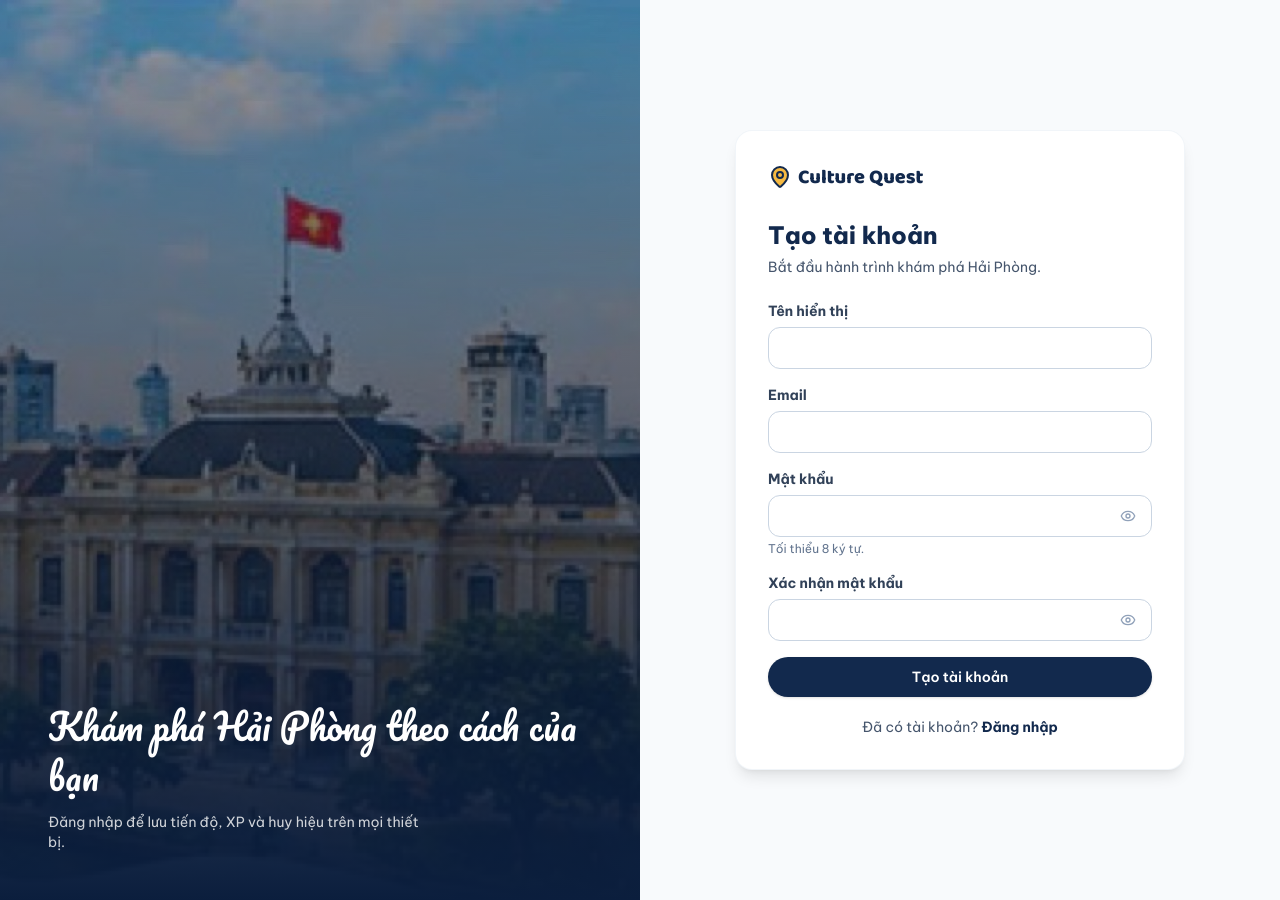
Test case: AuthPage › explains that the email is already registered
Type "Mai Anh" into the field labelled "Tên hiển thị" at (960, 348), box top-left (768, 327), bottom-right (1152, 369)
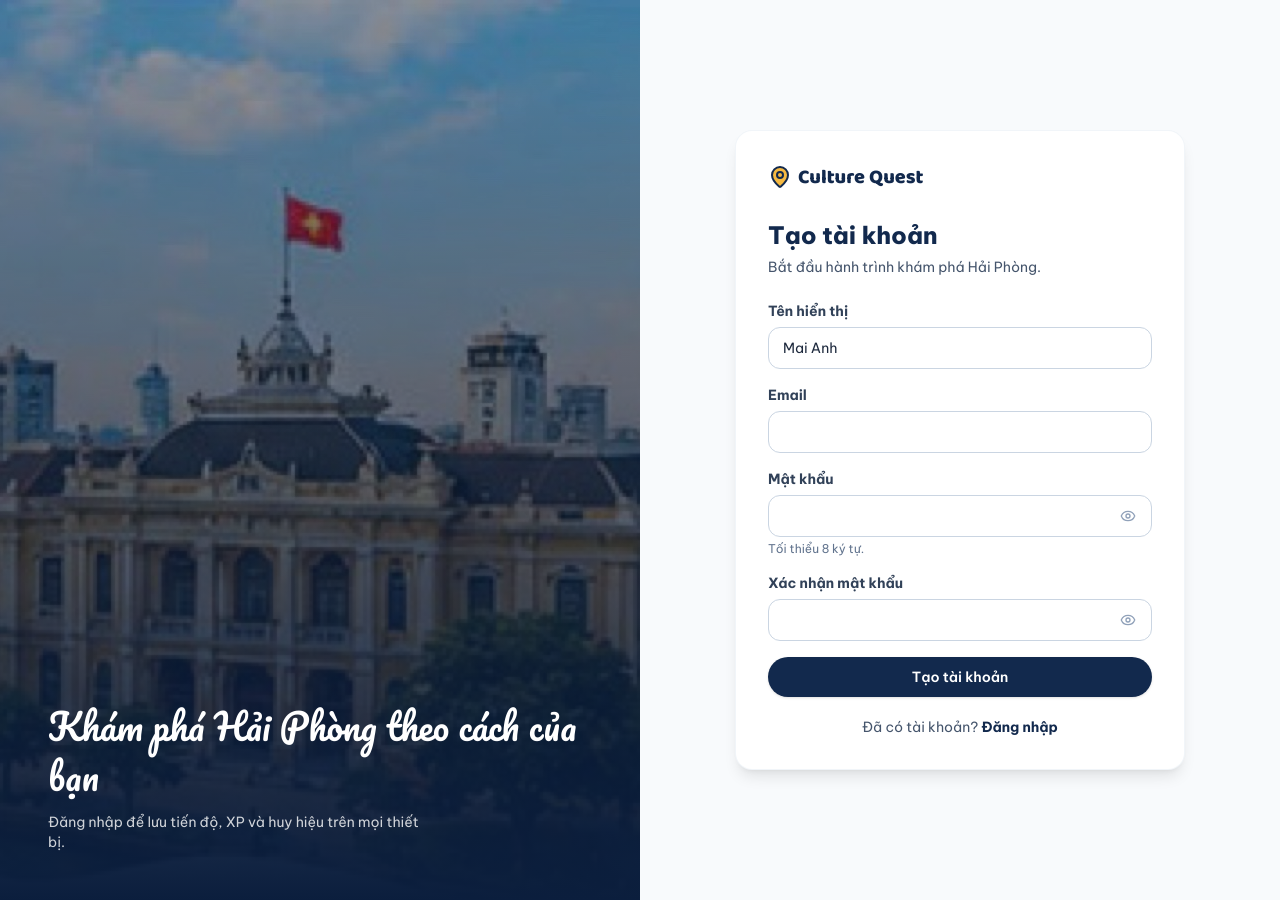
Type "mai@example.com" into the field labelled "Email" at (960, 432), box top-left (768, 411), bottom-right (1152, 453)
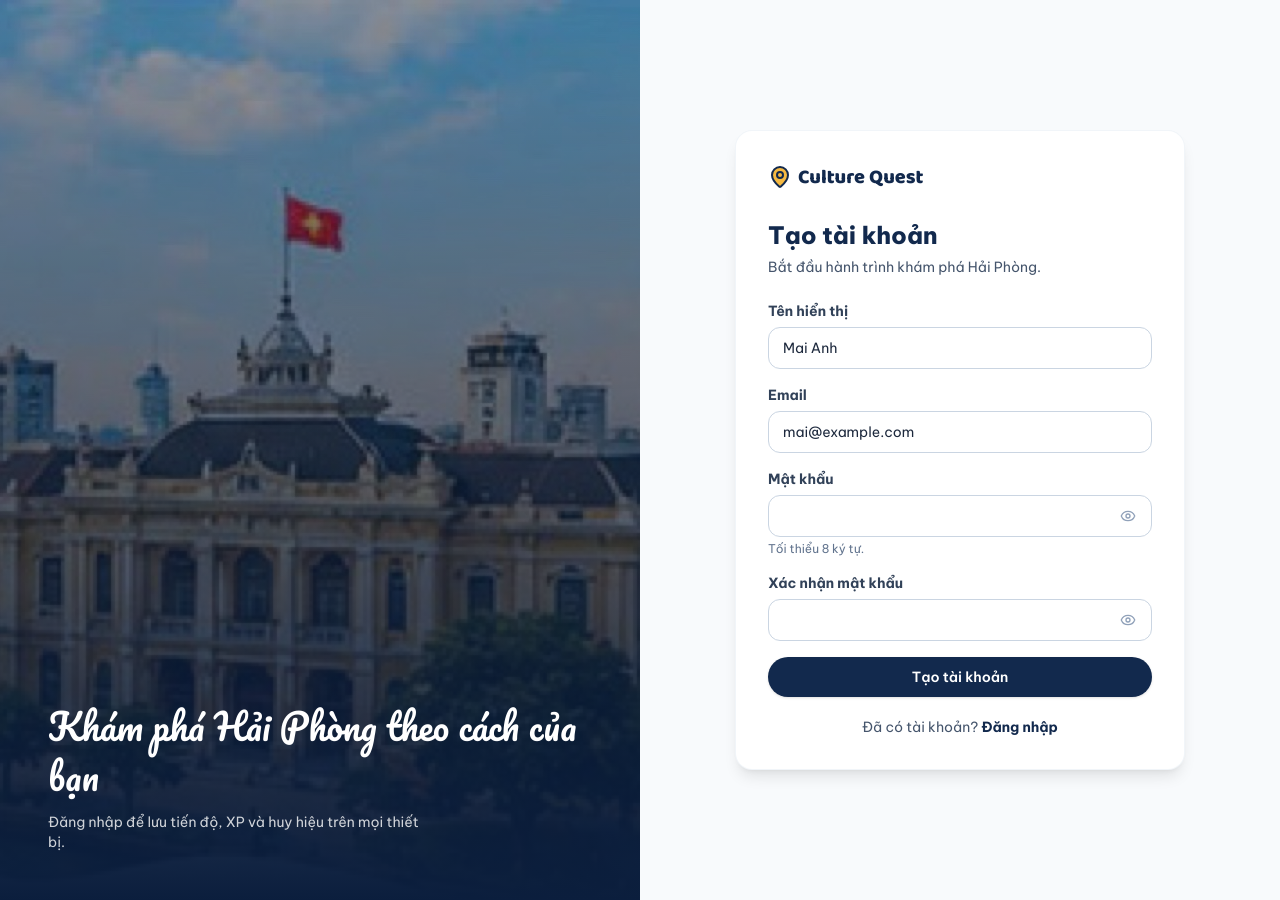
Type "password123" into the password field labelled "Mật khẩu" at (960, 516), box top-left (768, 495), bottom-right (1152, 537)
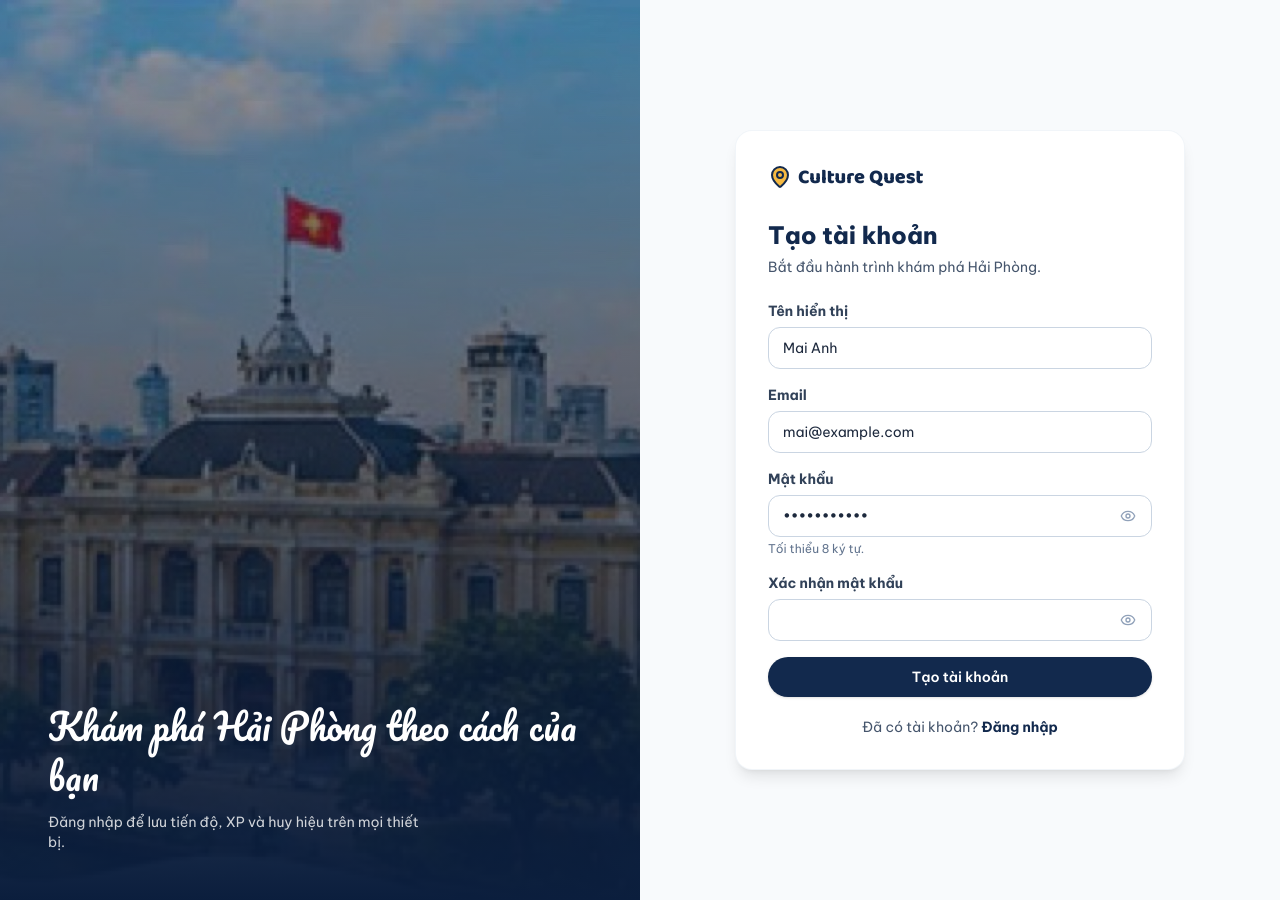
Type "password123" into the password field labelled "Xác nhận mật khẩu" at (960, 620), box top-left (768, 599), bottom-right (1152, 641)
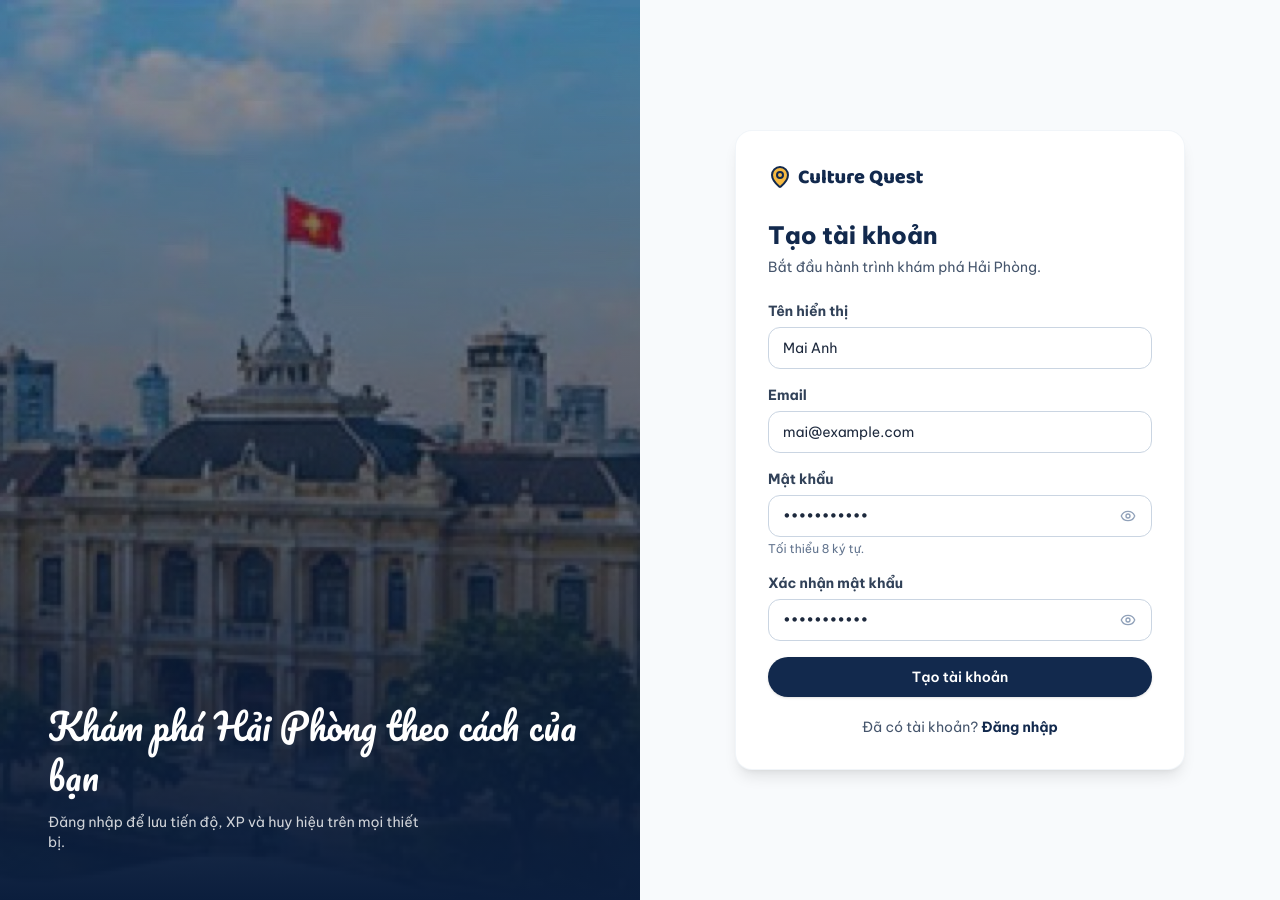
Submit the form "Tạo tài khoản", box top-left (768, 301), bottom-right (1152, 697)
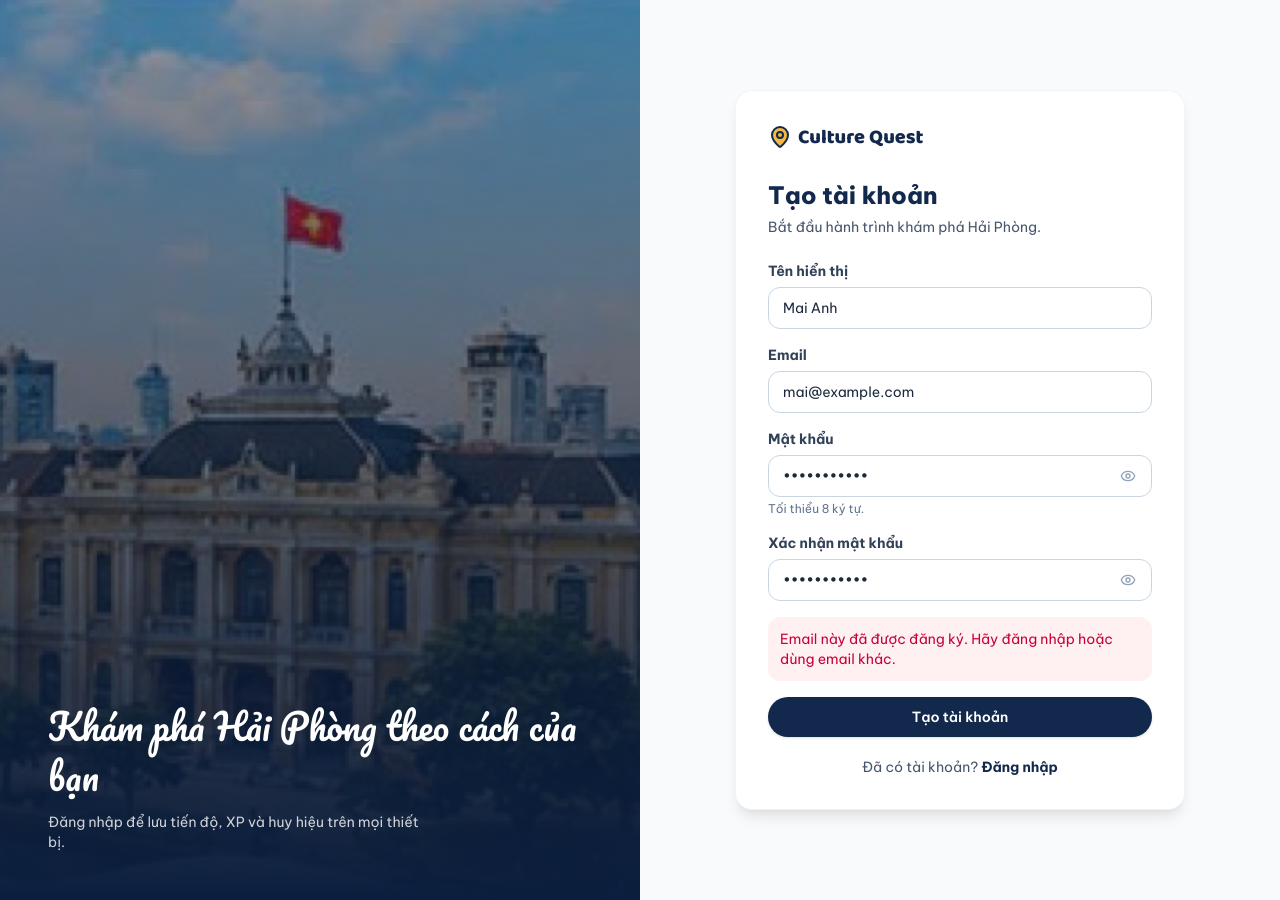
Expected: the message shows "Email này đã được đăng ký", top-left (780, 630), bottom-right (1113, 668)
